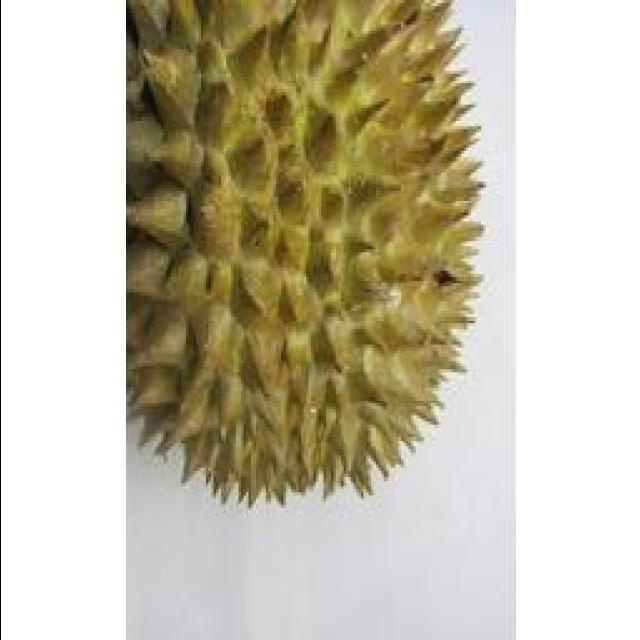agrume: (121, 0, 515, 520)
